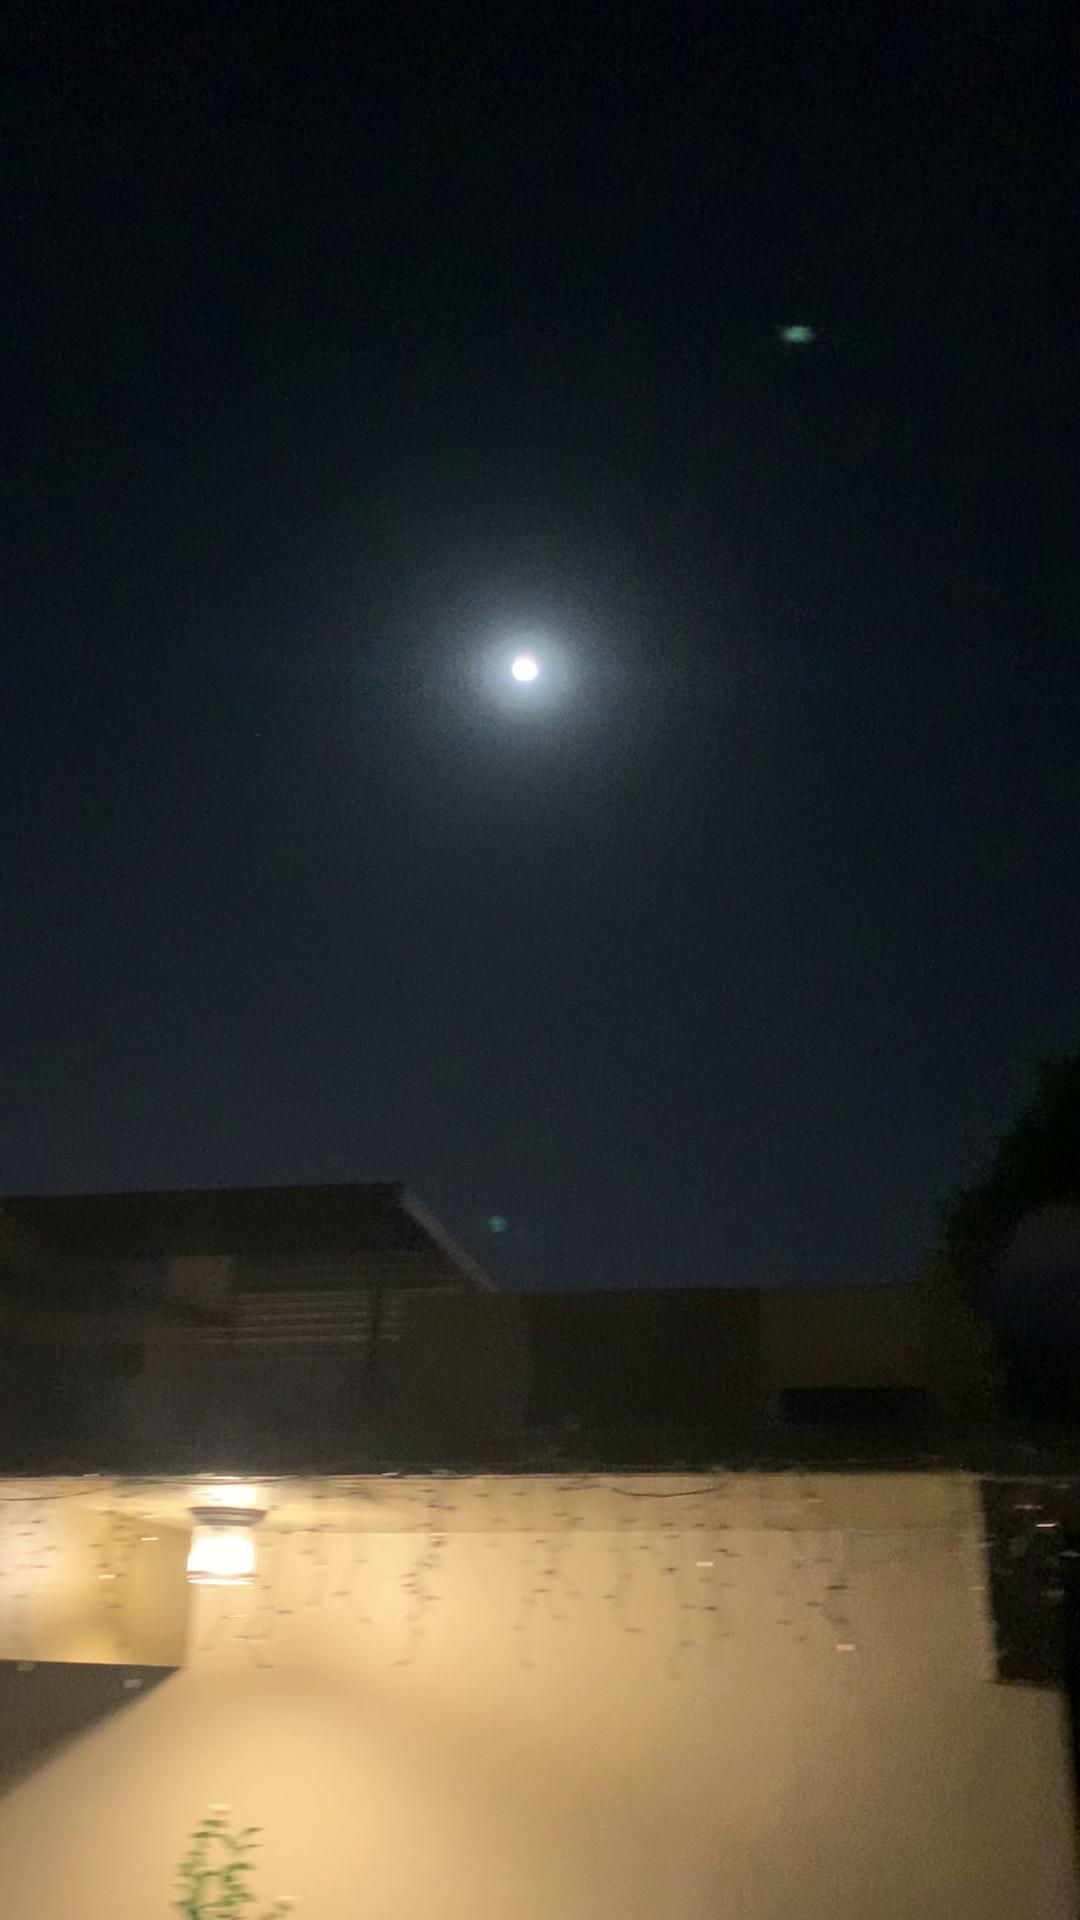moon: (485, 624, 572, 703)
